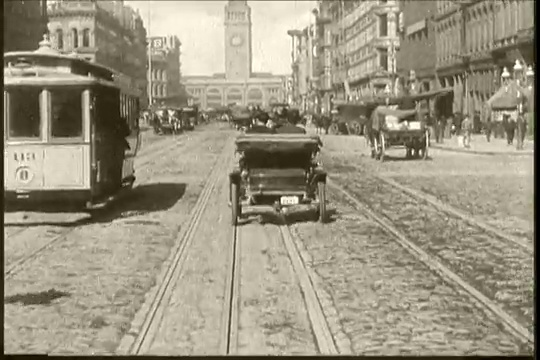car: (221, 105, 331, 227)
carriage: (360, 93, 430, 160)
trolley: (2, 45, 141, 225)
